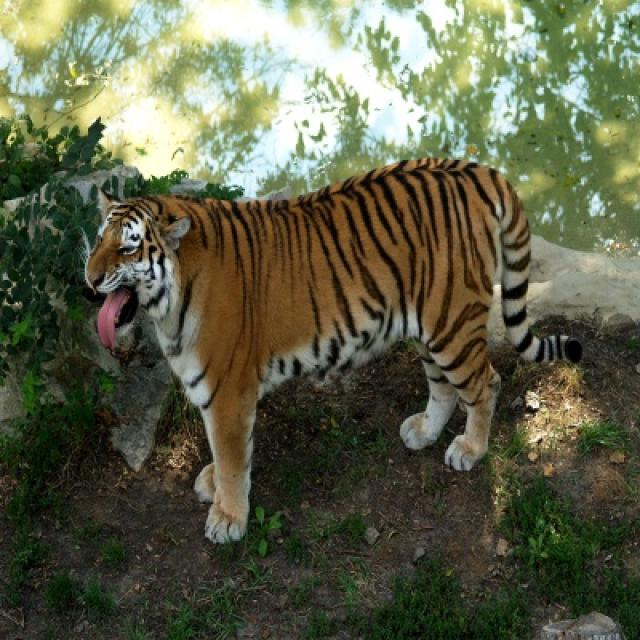Tiger: (83, 159, 579, 543)
